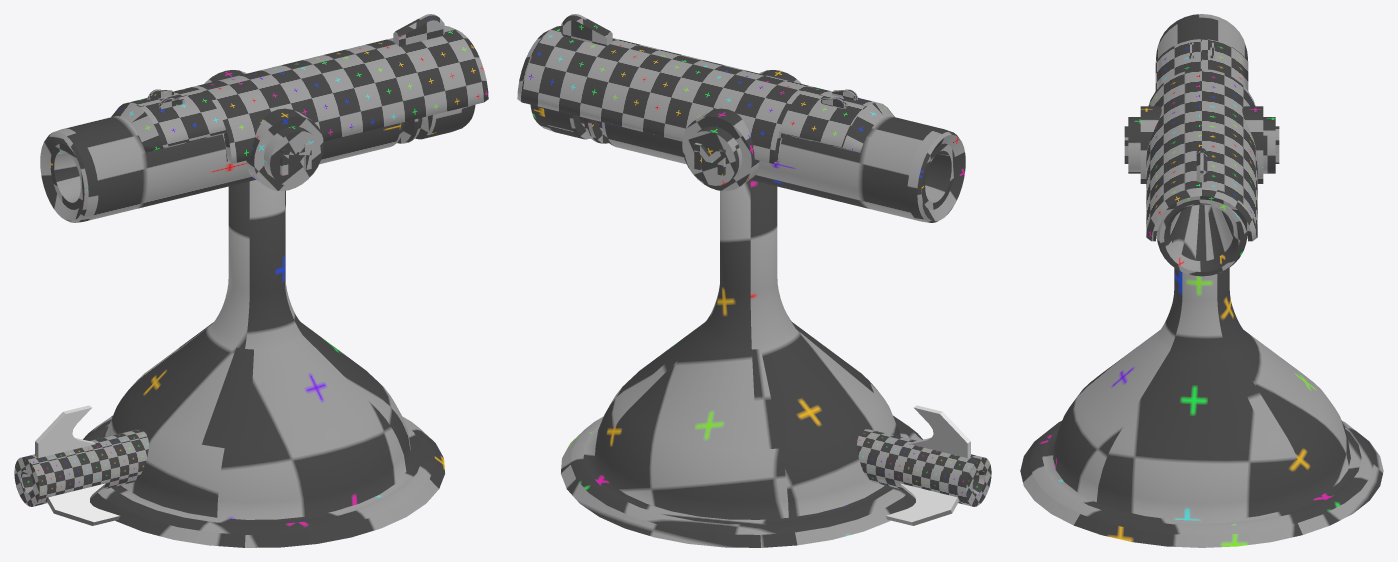
Rendered from missile.glb.
The picture shows the model from 3 angles, left to right: view 1: azimuth 30°, elevation 25°; view 2: azimuth 150°, elevation 25°; view 3: azimuth 270°, elevation 25°; orthographic projection. The views are drawn at different scales.
Parts seen in each view (by area): view 1: Cylinder.003, Cylinder.004_Plate, Cylinder.004, Cylinder.005, Cylinder.001, Cube.002, Cube, Text; view 2: Cylinder.003, Cylinder.004_Plate, Cylinder.004, Cylinder.005, Cylinder.001, Cube.002, Cube, Text; view 3: Cylinder.003, Cylinder.004_Plate, Cylinder.004, Cylinder.001.
Part boxes in pixels (<box>): Cylinder.003: <box>83,179,445,547</box>; Cylinder.004_Plate: <box>111,26,488,163</box>; Cylinder.004: <box>40,105,475,222</box>; Cylinder.005: <box>14,429,148,506</box>; Cylinder.001: <box>204,70,323,191</box>; Cube.002: <box>35,405,119,525</box>; Cube: <box>393,14,444,46</box>; Text: <box>280,142,311,175</box>; Cylinder.003: <box>560,179,922,547</box>; Cylinder.004_Plate: <box>517,26,894,163</box>; Cylinder.004: <box>530,105,965,222</box>; Cylinder.005: <box>857,429,991,506</box>; Cylinder.001: <box>682,70,801,191</box>; Cube.002: <box>886,405,970,525</box>; Cube: <box>561,14,612,46</box>; Text: <box>694,142,725,175</box>; Cylinder.003: <box>1020,268,1383,547</box>; Cylinder.004_Plate: <box>1146,39,1257,241</box>; Cylinder.004: <box>1156,14,1247,276</box>; Cylinder.001: <box>1128,106,1275,183</box>.
Size of the model in its own units: 18.36 by 16.59 by 13.76.
Materials: 1 (1 with a texture image).
